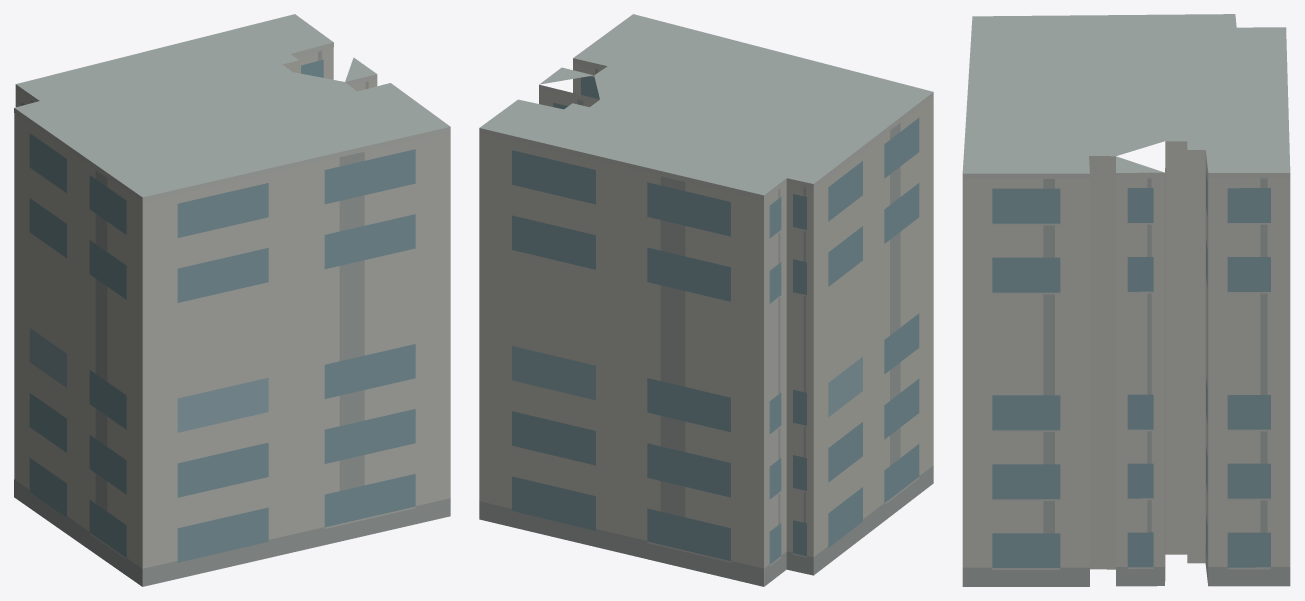
File: survey-upis-32806135.glb
3 views of the same model, side by side, from view 1: azimuth 30°, elevation 25°; view 2: azimuth 150°, elevation 25°; view 3: azimuth 270°, elevation 25° (orthographic). The views are drawn at different scales.
Parts seen in each view (by area): view 1: survey-upis-32806135.tmp; view 2: survey-upis-32806135.tmp; view 3: survey-upis-32806135.tmp.
Boxes of the visible parts, bbox=[...] form: survey-upis-32806135.tmp: bbox=[14, 14, 450, 586]; survey-upis-32806135.tmp: bbox=[479, 14, 933, 586]; survey-upis-32806135.tmp: bbox=[962, 14, 1290, 586].
Bounding box in the file's own units: 15.16 × 18.3 × 13.16.
